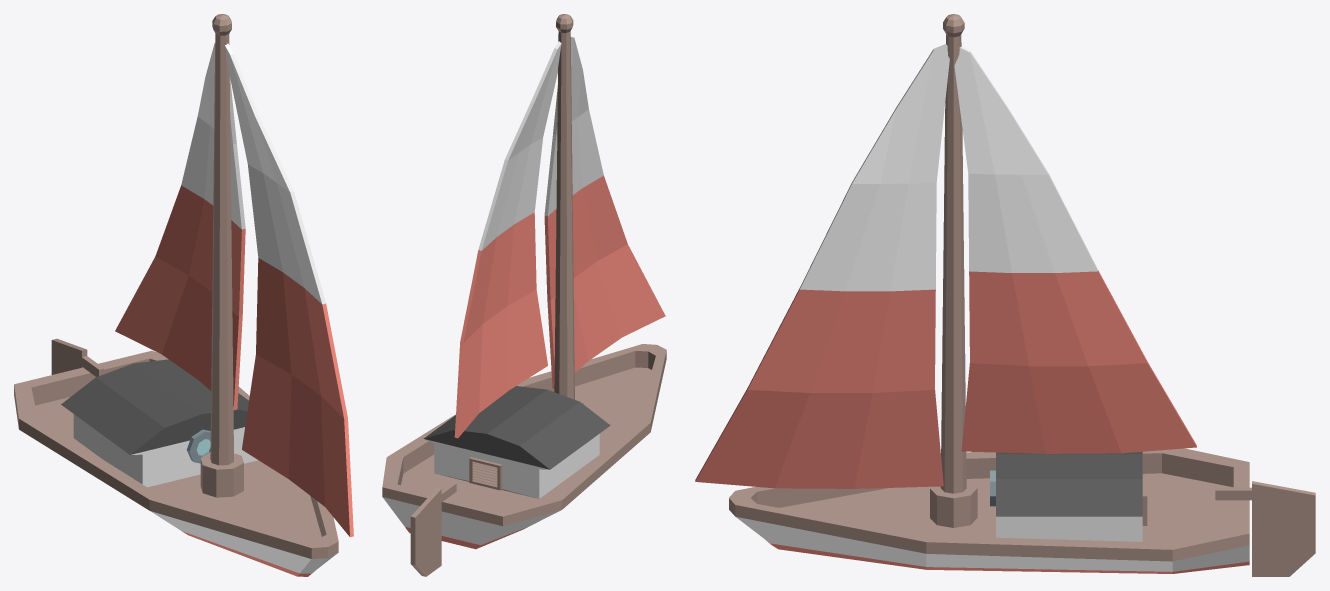
File: Sailboat_01.gltf
3 views of the same model, side by side, from view 1: azimuth 30°, elevation 25°; view 2: azimuth 150°, elevation 25°; view 3: azimuth 270°, elevation 25° (orthographic). The views are drawn at different scales.
Visible parts, largest first — view 1: node-0; view 2: node-0; view 3: node-0.
Boxes of the visible parts, x1=… form: node-0: x1=14, y1=14, x2=353, y2=576; node-0: x1=382, y1=14, x2=666, y2=576; node-0: x1=695, y1=14, x2=1315, y2=576.
Size of the model in its own units: 4.07 by 10.21 by 10.26.
